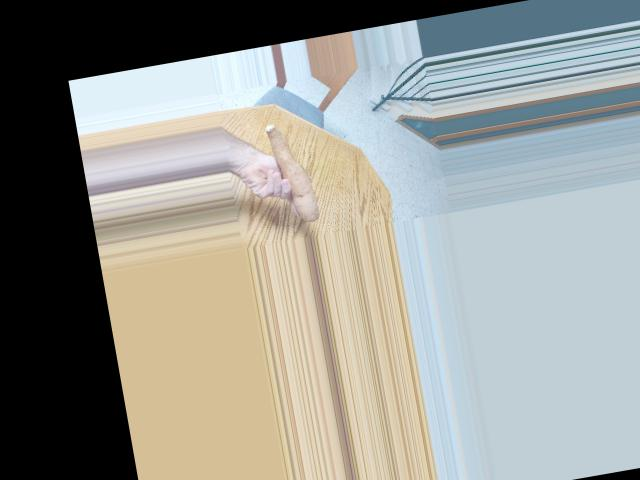sweet_potato: (260, 117, 323, 226)
